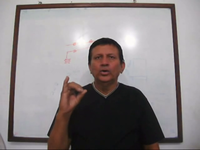oi: (59, 76, 89, 110)
